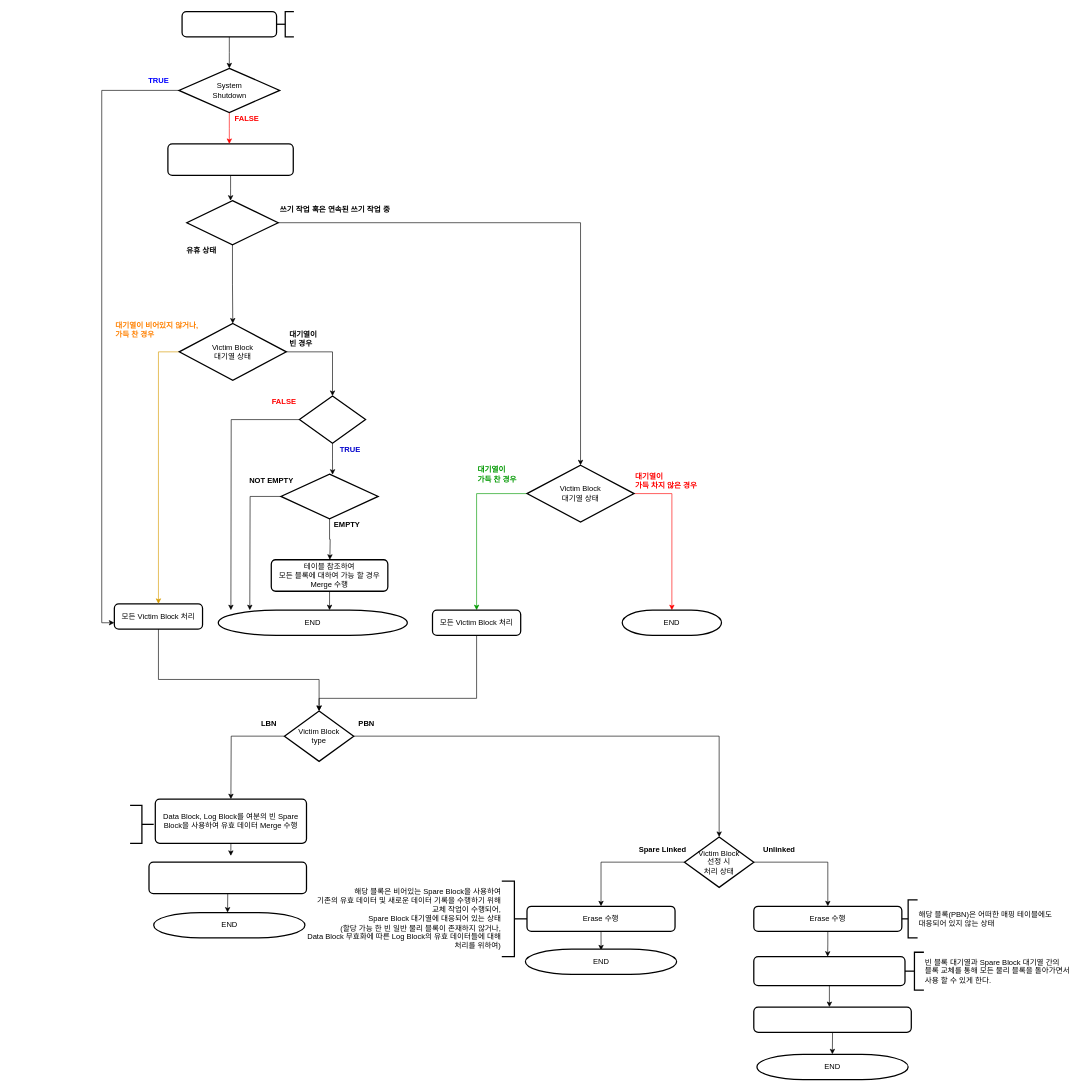
Image size: 1081x1091. Some labels were removed from this diagram. The centre of each missing label's shape, as x and y in pixels:
"1) When write operation occurs 2) When the write operation ends" belongs at pixel 285 24.
"Empty Block 대기열 상태" belongs at pixel 329 496.
"GC scheduling Algorithm" belongs at pixel 229 24.
"LBN을 Victim Block으로 선정한 것은 하이브리드 매핑에만 해당" belongs at pixel 141 824.
"Merge 수행된 블록을 Data Block로 설정 및 해당 오프셋 위치에 새로운 데이터 기록" belongs at pixel 227 877.
"Victim Block 존재 시 대기열 삽입" belongs at pixel 230 159.
"Wear-leveling을 위하여 Victim Block을 Spare Block과 교체" belongs at pixel 829 971.
"교체 된 Spare Block을 재사용 위해 Empty Block 대기열에 추가" belongs at pixel 832 1019.
"하이브리드 (BAST)" belongs at pixel 332 419.
"현재 작업 상태" belongs at pixel 232 222.
